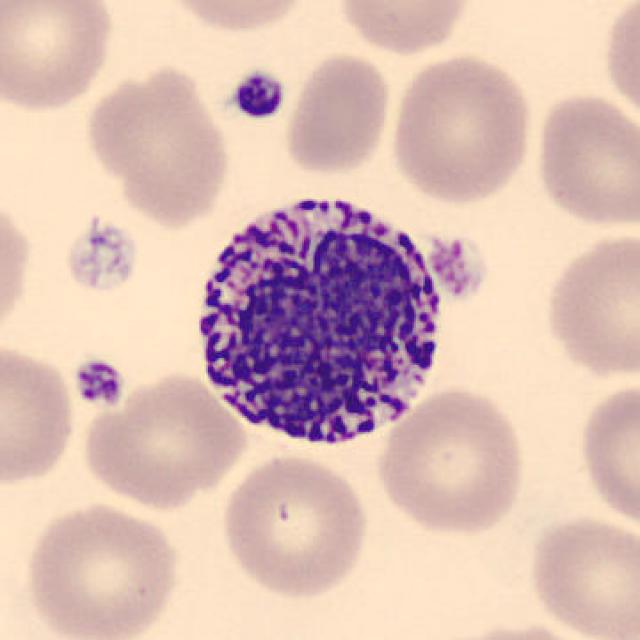Basophil: (183, 176, 459, 464)
Platelets: (61, 217, 140, 296), (425, 231, 487, 301), (228, 67, 288, 122), (70, 354, 126, 411)
RBC: (82, 60, 235, 229), (77, 367, 250, 511), (373, 382, 530, 538), (18, 497, 183, 640), (386, 50, 537, 206), (217, 450, 373, 601), (538, 227, 640, 382), (530, 88, 638, 233), (523, 511, 638, 640), (281, 48, 395, 178), (0, 0, 119, 115), (0, 339, 80, 490), (574, 377, 638, 531), (332, 0, 474, 56), (0, 187, 36, 351), (156, 0, 314, 35), (599, 0, 638, 129), (432, 620, 610, 640)
